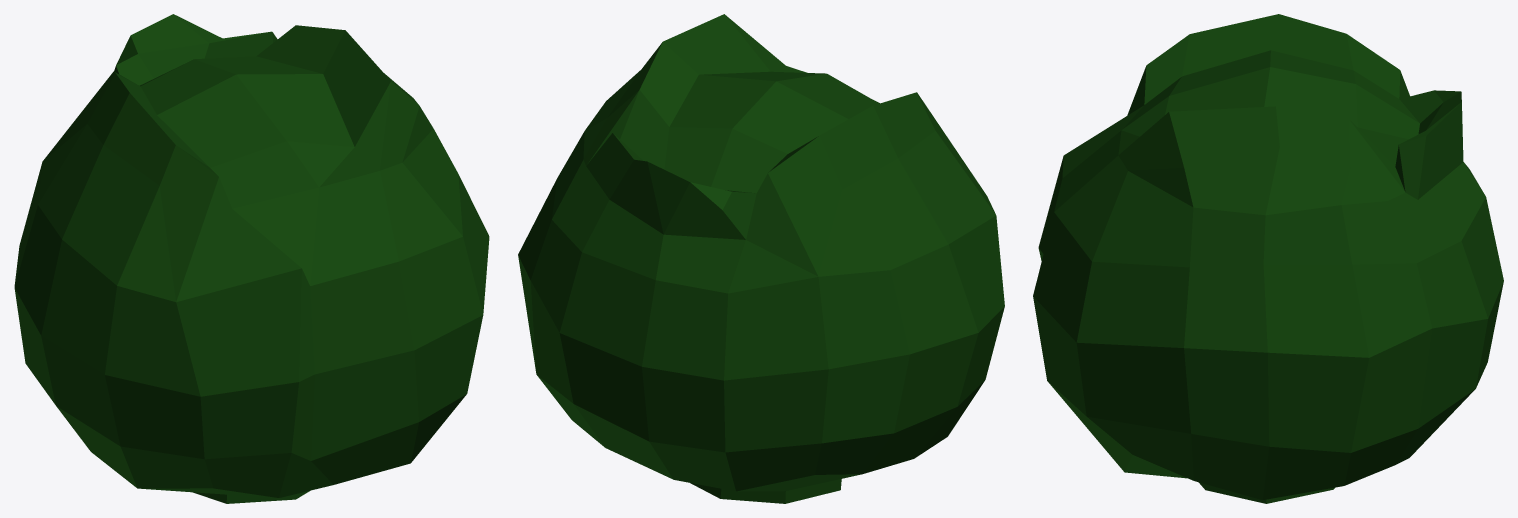
The model's file is food_lettuce.FBX.
The picture shows the model from 3 angles, left to right: view 1: azimuth 30°, elevation 25°; view 2: azimuth 150°, elevation 25°; view 3: azimuth 270°, elevation 25°; orthographic projection.
Visible parts, largest first — view 1: food_lettuce; view 2: food_lettuce; view 3: food_lettuce.
Boxes of the visible parts, <box> form: food_lettuce: <box>14,14,489,503</box>; food_lettuce: <box>518,14,1004,503</box>; food_lettuce: <box>1033,14,1503,503</box>.
Size of the model in its own units: 215 by 204 by 210.
